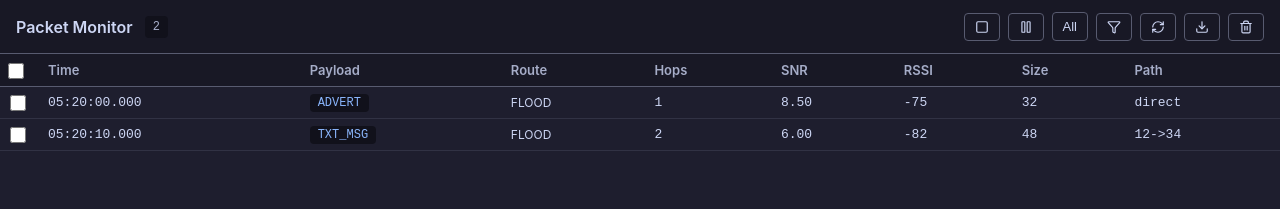
MeshCorePacketMonitorView packet selection and export › selects all packets when header checkbox is clicked and shows selection bar
Expected: the text "ADVERT" is shown, [310,94,369,112]
Step 1. Click the checkbox named "Select all visible packets" → {"x": 16, "y": 71}, box [8,63,24,79]
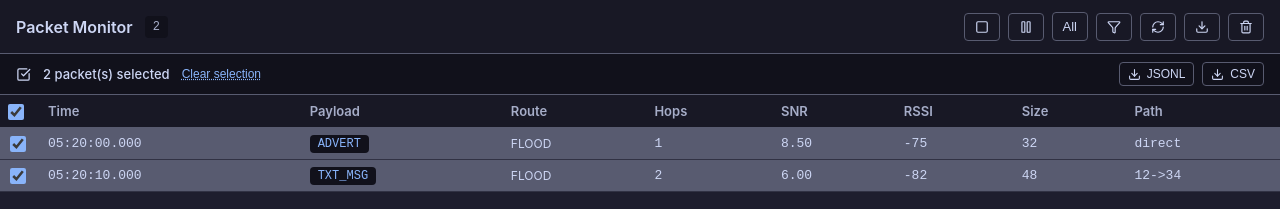
Result: the checkbox named "Select all visible packets" is checked
Result: the text "2 packet(s) selected" is shown at [43,66,170,82]
Deselect all
Step 2. Click the checkbox named "Select all visible packets" → {"x": 16, "y": 112}, box [8,104,24,120]
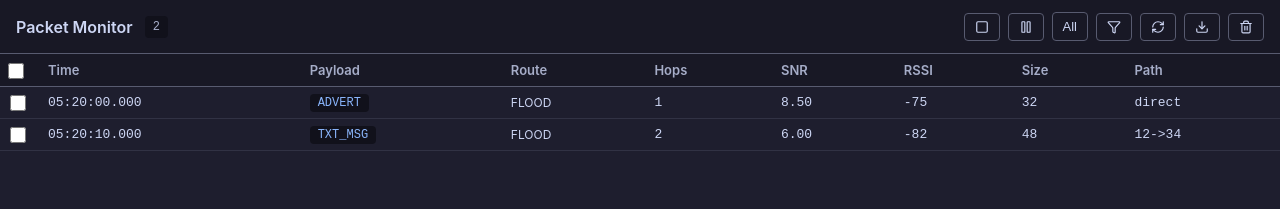
Result: the checkbox named "Select all visible packets" is not checked at [8,63,24,79]
Result: the text "2 packet(s) selected" is gone
